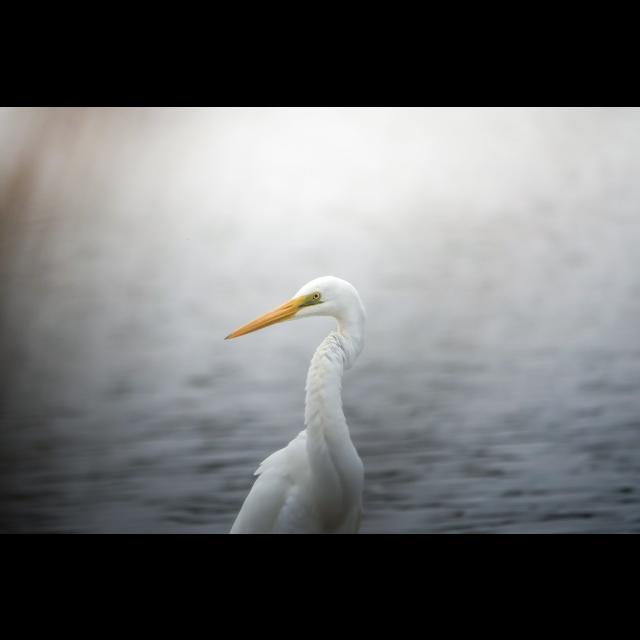egret: (224, 272, 370, 534)
